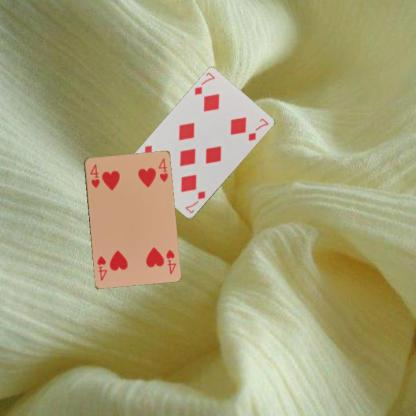4h: (87, 161, 101, 189), (163, 247, 177, 275)
7d: (182, 188, 207, 215), (191, 70, 216, 96)
